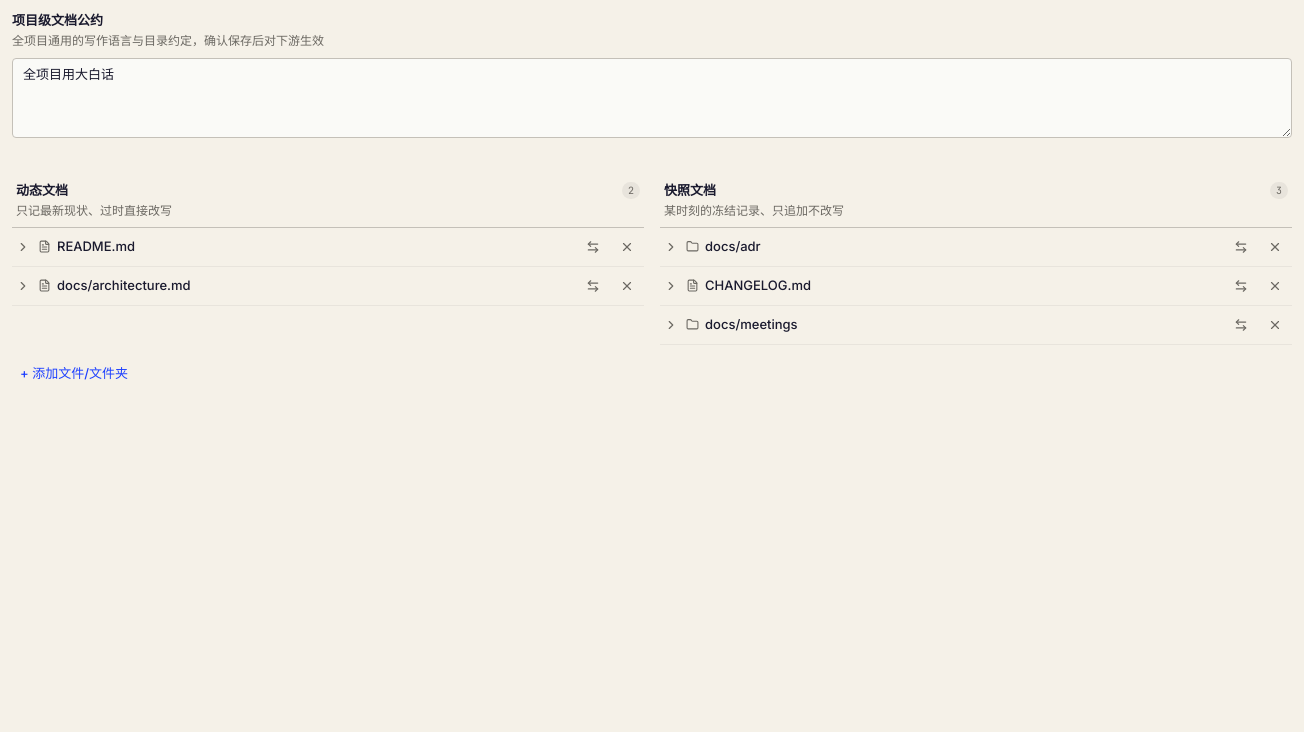
Test case: DocumentRegistryEditor · 两栏改判编辑器 › 界面用词讲人话：「文档规定」与「项目级文档公约」，不露实现词
Check: the text box labelled "项目级文档公约" is shown, box [12, 58, 1292, 138]
Click the button with aria-label "文档 docs/adr": [733, 246] box [664, 236, 1220, 258]
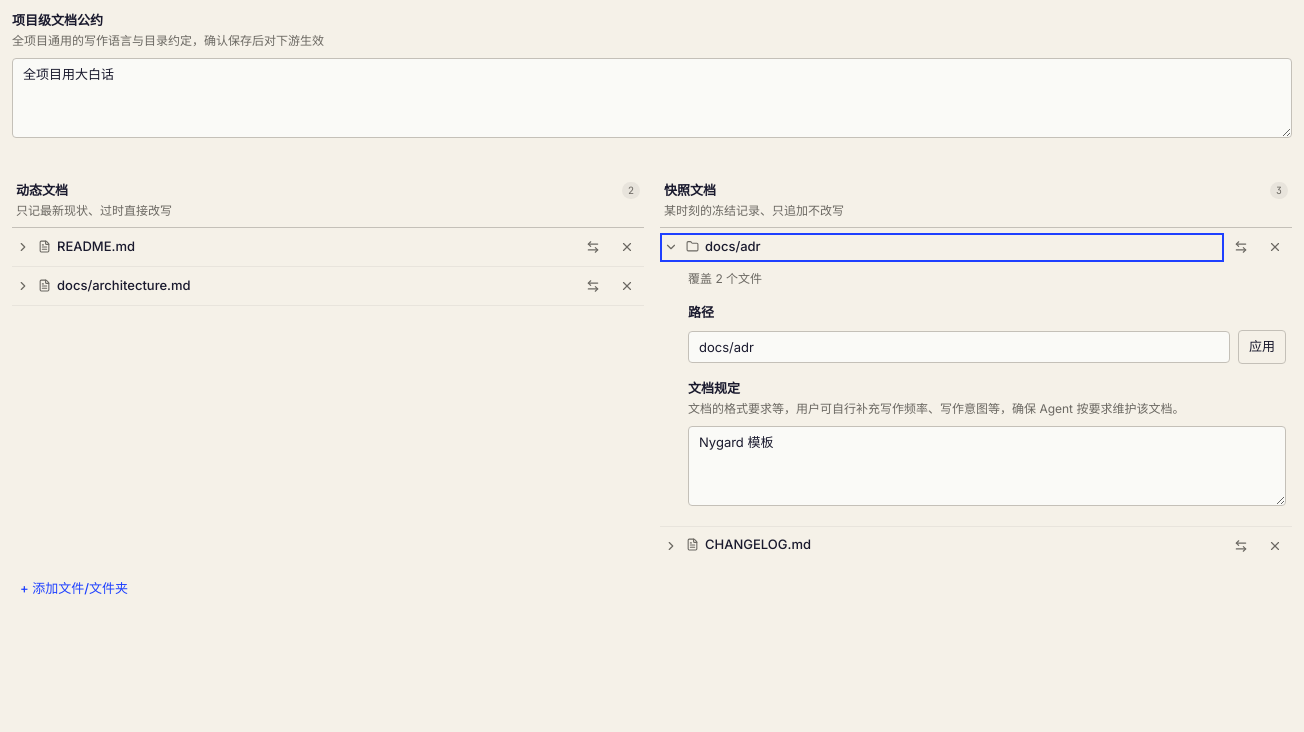
Check: the text box named "文档规定 docs/adr" is shown, box [688, 426, 1286, 506]
